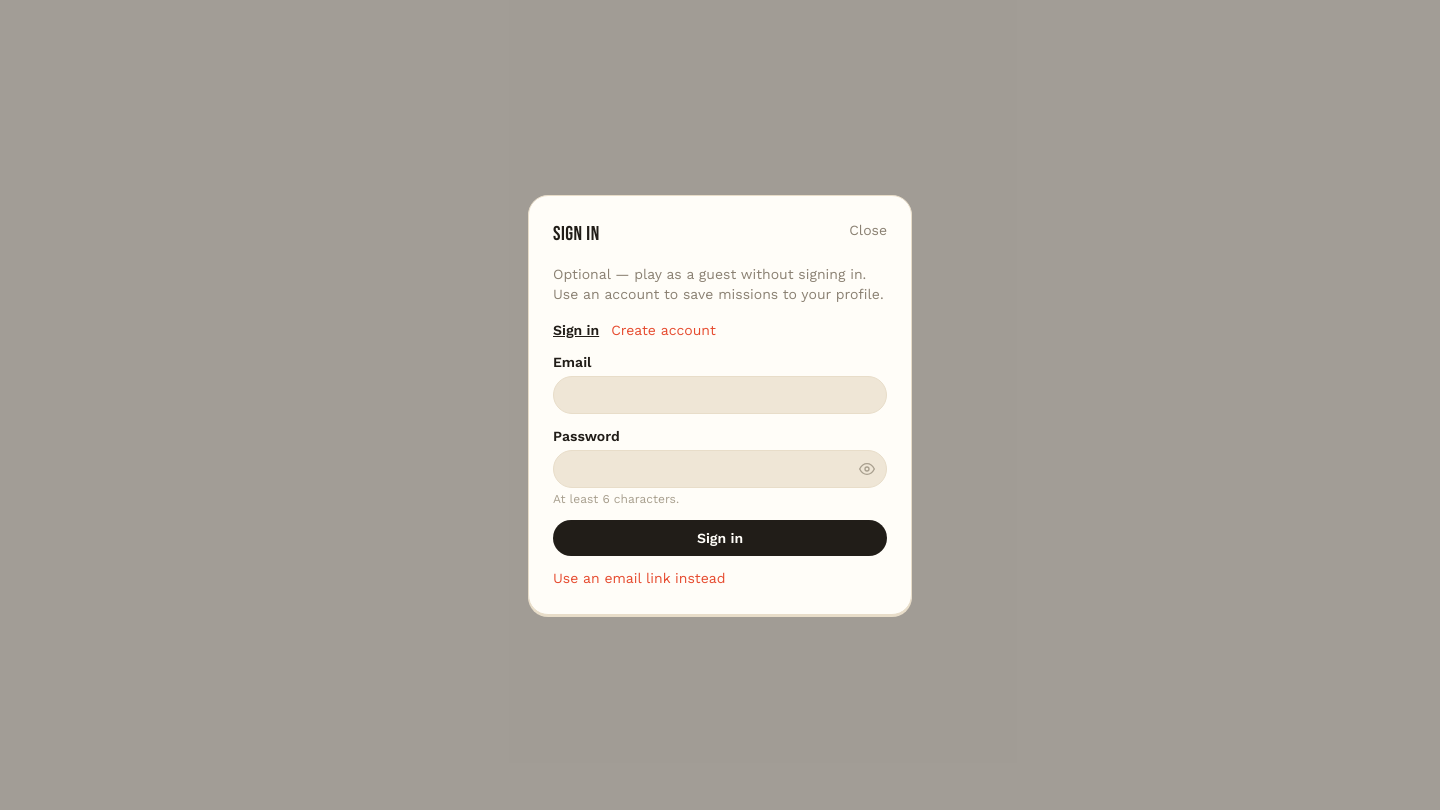
Scenario: AuthModal › shows a secondary email-link control when magic link is enabled
Expected: the tab "Magic link" is not shown
Expected: the button "Send magic link" is not shown
Click the button "Use an email link instead": (639,578) 553,568 -> 726,588
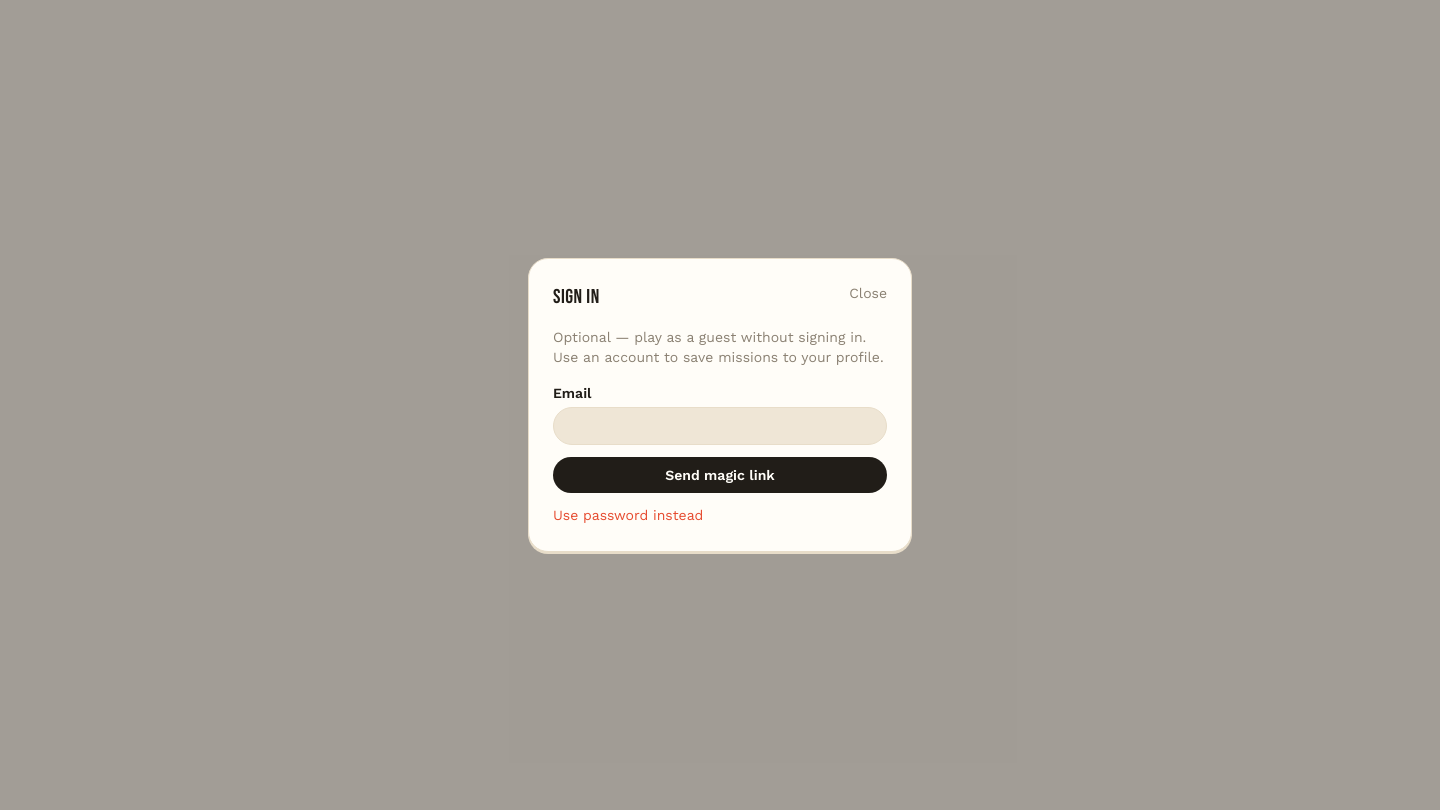
Expected: the button "Send magic link" is shown, 553,457 -> 887,493
